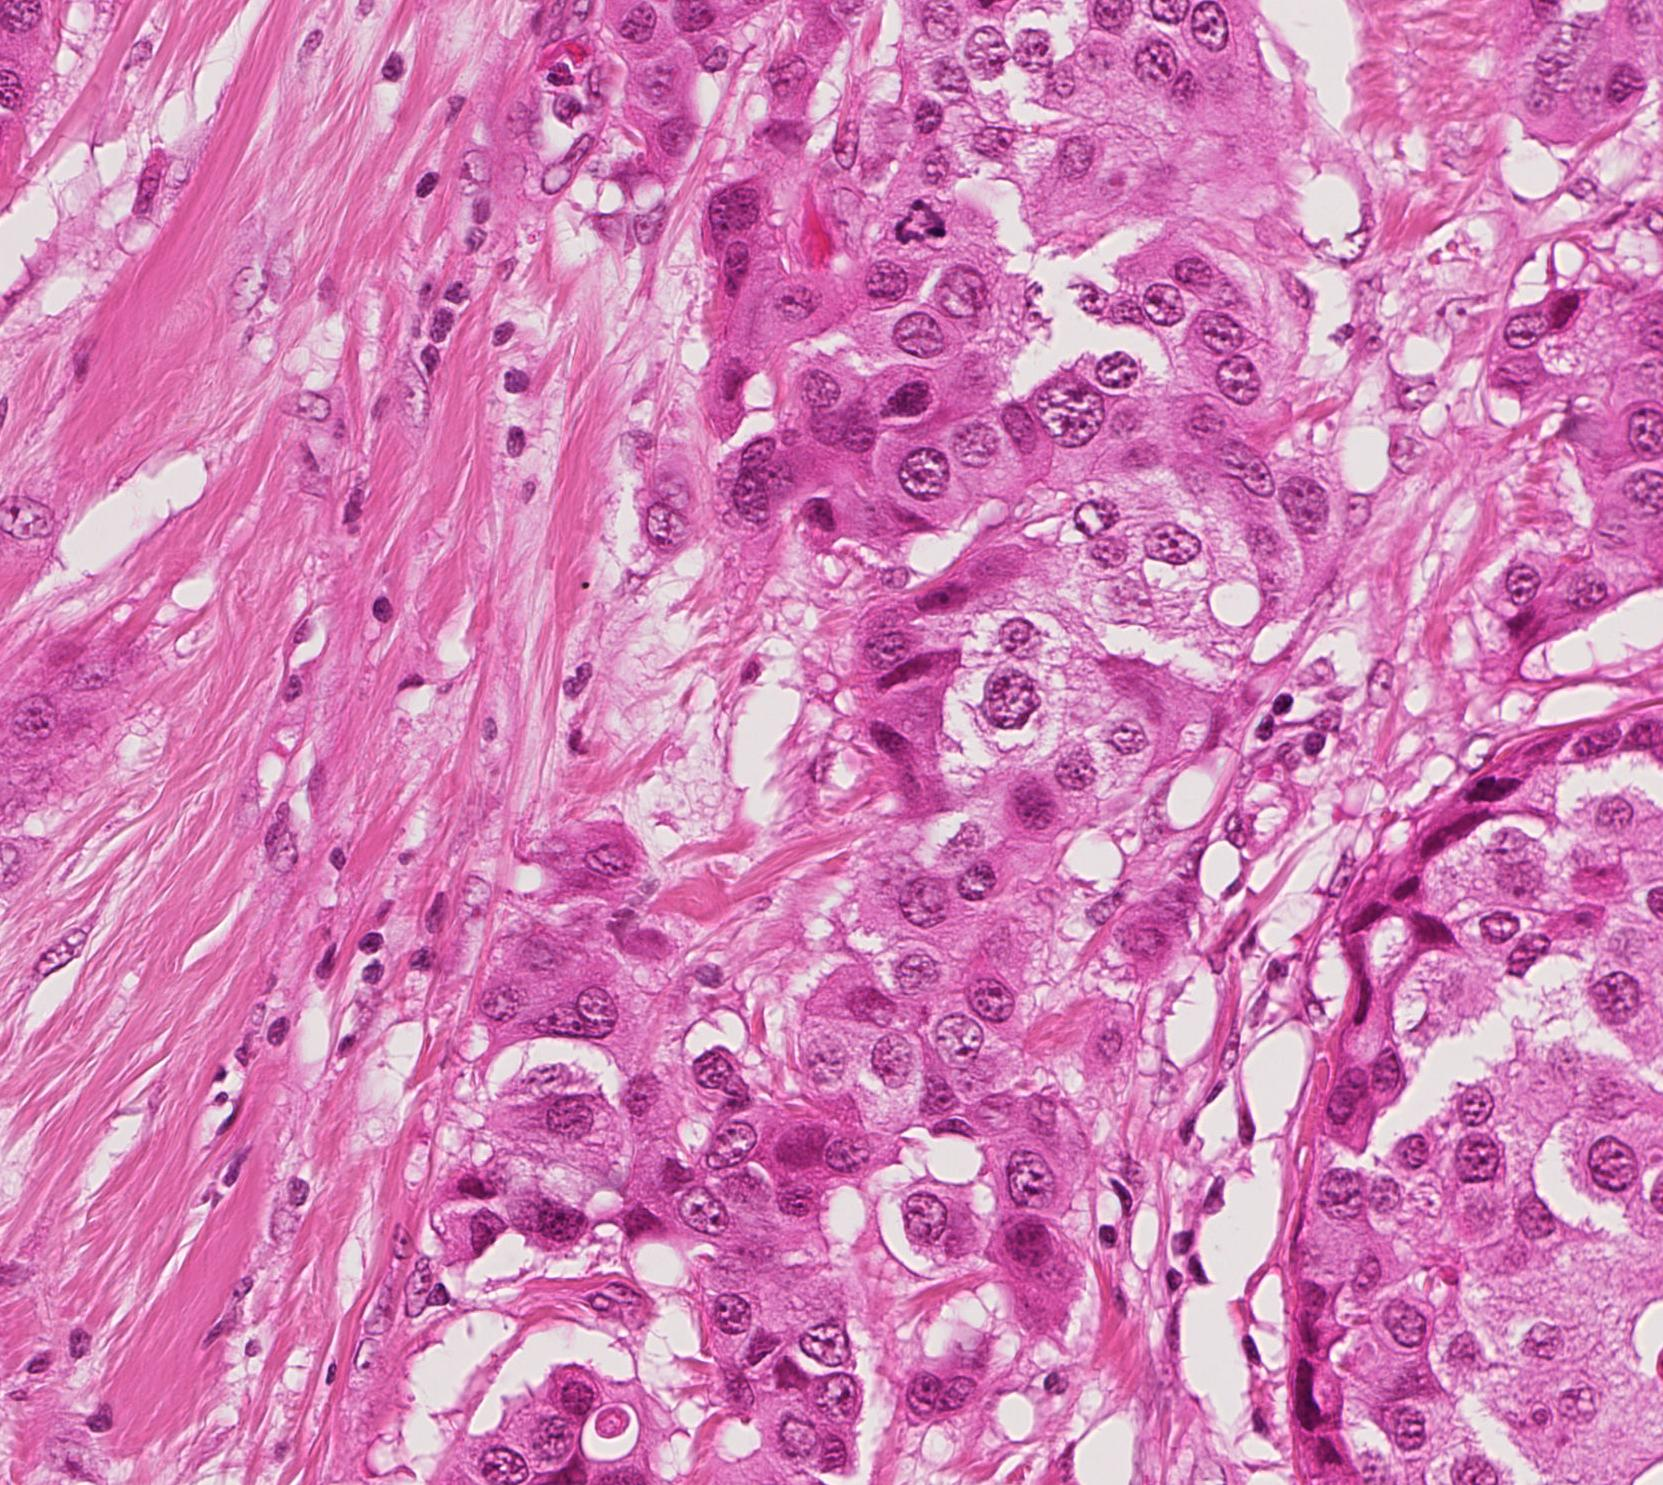mitosis: (892, 191, 950, 249)
